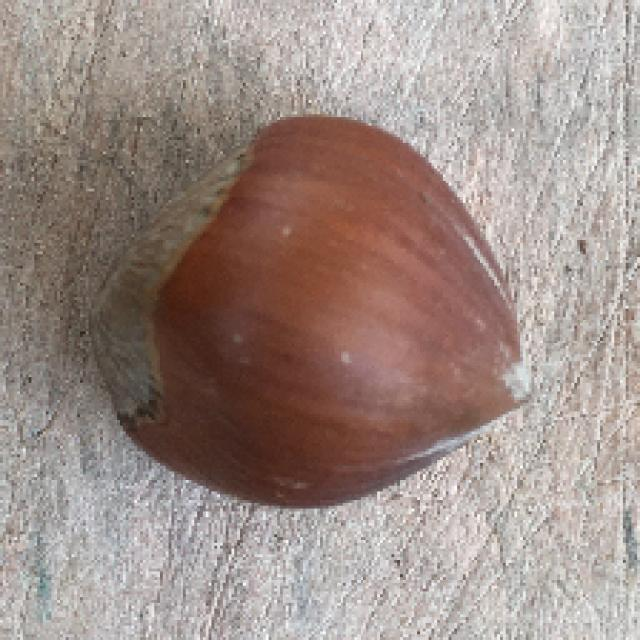qualityHazelnut: (99, 115, 542, 508)
